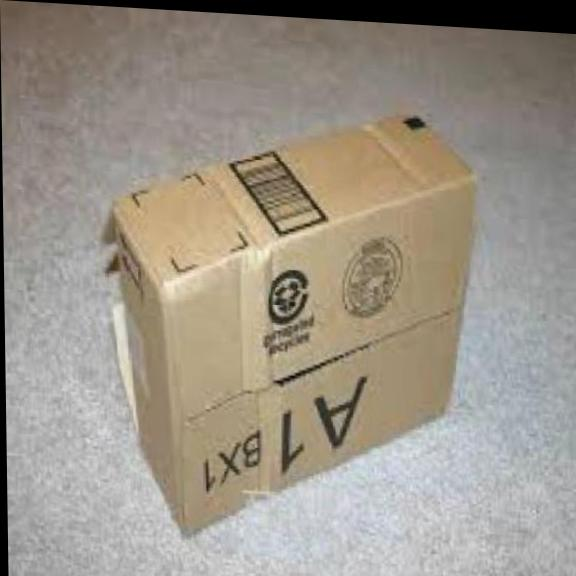Kertas: (98, 89, 482, 549)
